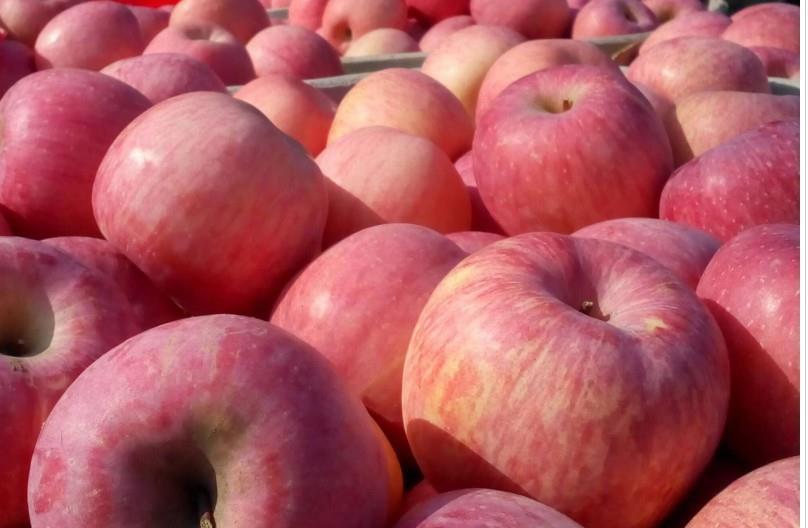apple: (419, 225, 753, 519), (29, 319, 400, 527), (91, 94, 331, 306), (286, 213, 516, 434), (1, 237, 141, 516), (471, 64, 673, 239), (1, 65, 152, 243), (695, 224, 803, 466), (658, 120, 801, 250), (316, 131, 471, 236), (623, 35, 771, 140), (324, 68, 473, 160), (658, 90, 796, 179), (418, 20, 523, 116), (467, 1, 574, 41), (572, 1, 661, 42)
